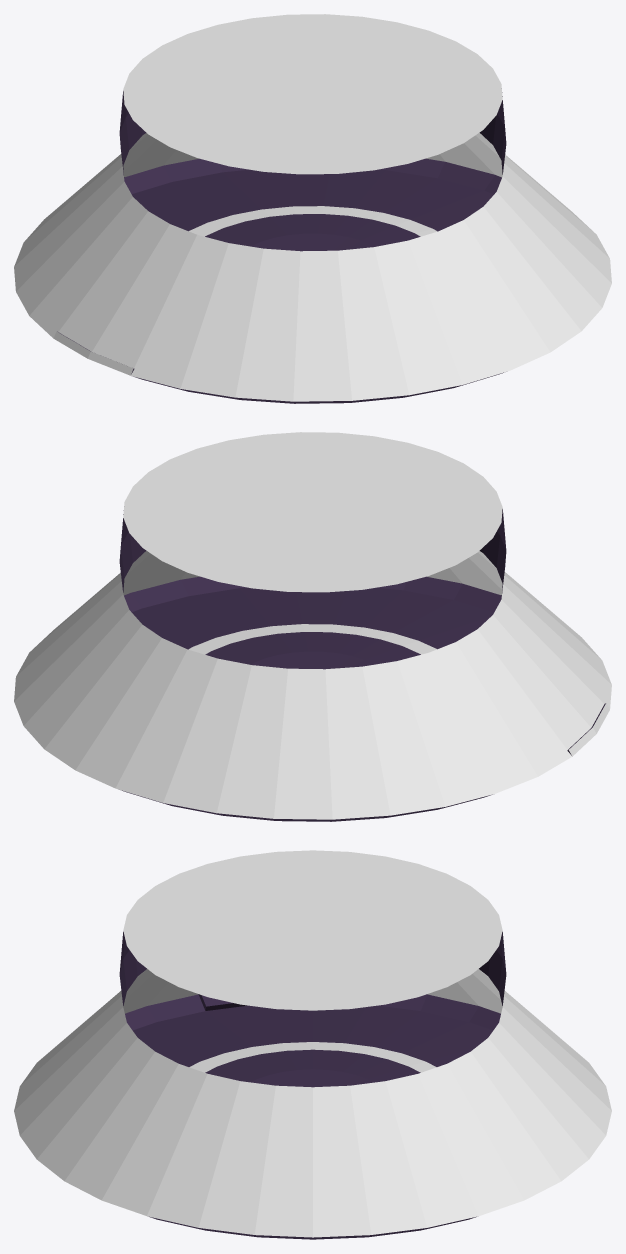
File: UFOtutorialFinFlip.fbx
The picture shows the model from 3 angles, top to bottom: view 1: azimuth 30°, elevation 25°; view 2: azimuth 150°, elevation 25°; view 3: azimuth 270°, elevation 25°; orthographic projection.
Parts seen in each view (by area): view 1: Sphere; view 2: Sphere; view 3: Sphere.
Boxes of the visible parts, bbox=[...] form: Sphere: bbox=[14, 14, 611, 403]; Sphere: bbox=[14, 432, 611, 821]; Sphere: bbox=[14, 850, 611, 1239].
Size of the model in its own units: 309 by 109 by 309.
